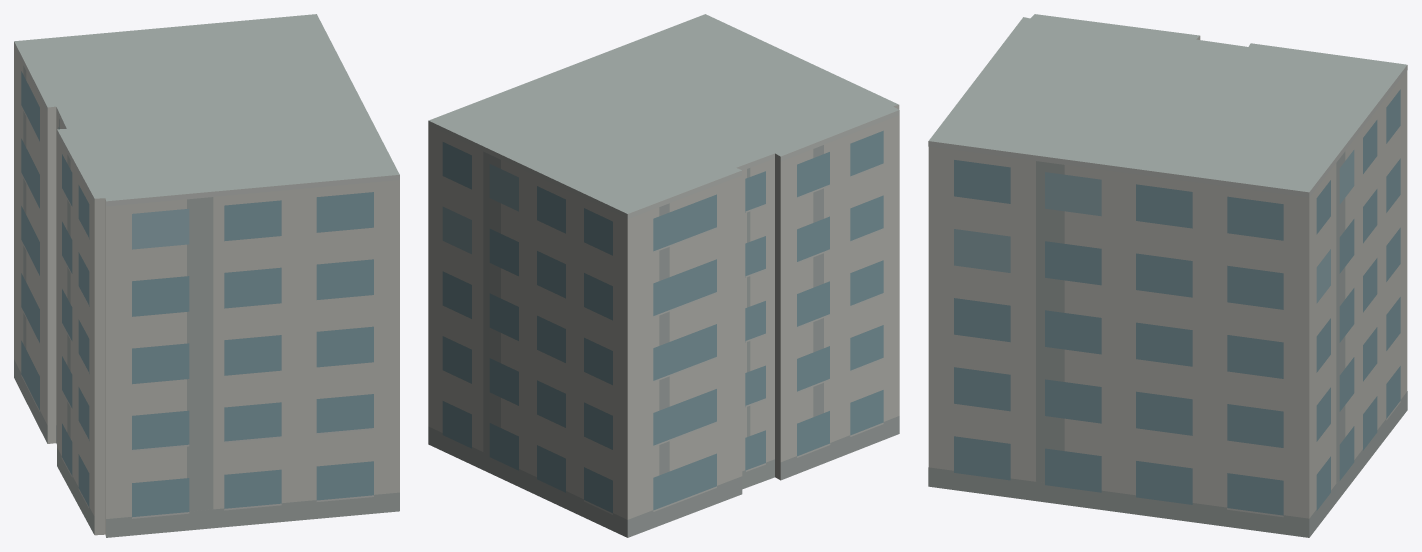
The model's file is survey-upis-32830333.glb.
3 renders of one model, left to right at view 1: azimuth 30°, elevation 25°; view 2: azimuth 150°, elevation 25°; view 3: azimuth 270°, elevation 25°, orthographic. The views are drawn at different scales.
Parts seen in each view (by area): view 1: survey-upis-32830333.tmp; view 2: survey-upis-32830333.tmp; view 3: survey-upis-32830333.tmp.
Part boxes in pixels (x1,y1,x2,y2): survey-upis-32830333.tmp: [14, 14, 399, 537]; survey-upis-32830333.tmp: [428, 14, 899, 537]; survey-upis-32830333.tmp: [928, 14, 1407, 537].
Bounding box in the file's own units: 16.89 × 15.25 × 19.17.
